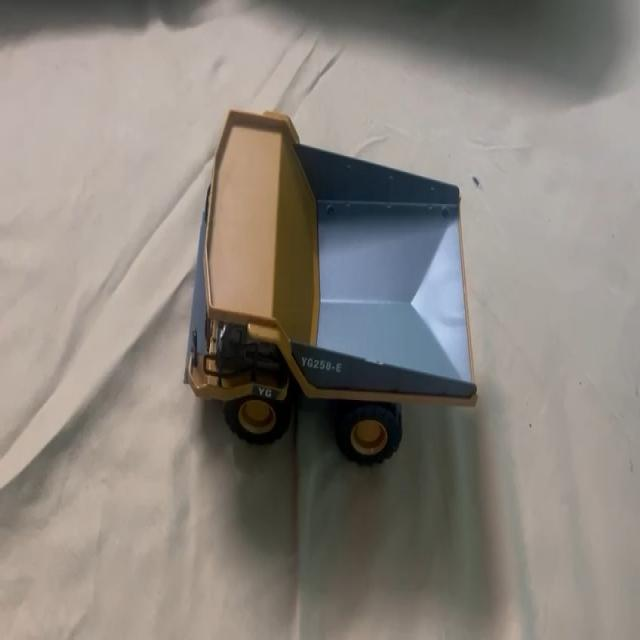dump_truck: (193, 114, 481, 455)
